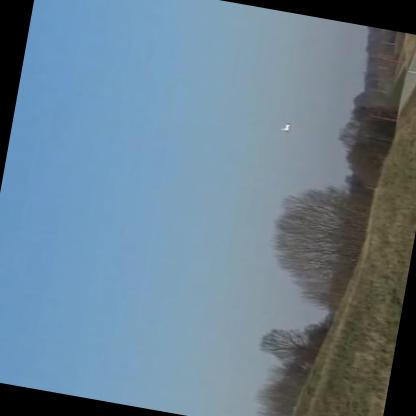plane: (280, 120, 292, 132)
